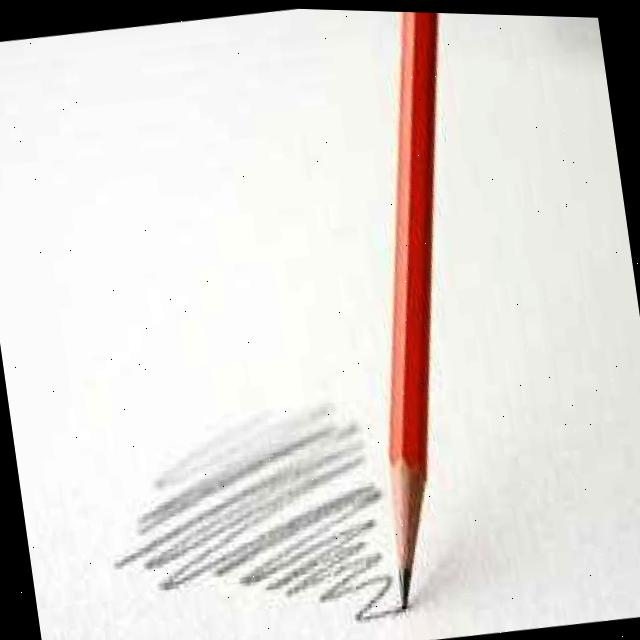pencil: (366, 9, 467, 638)
